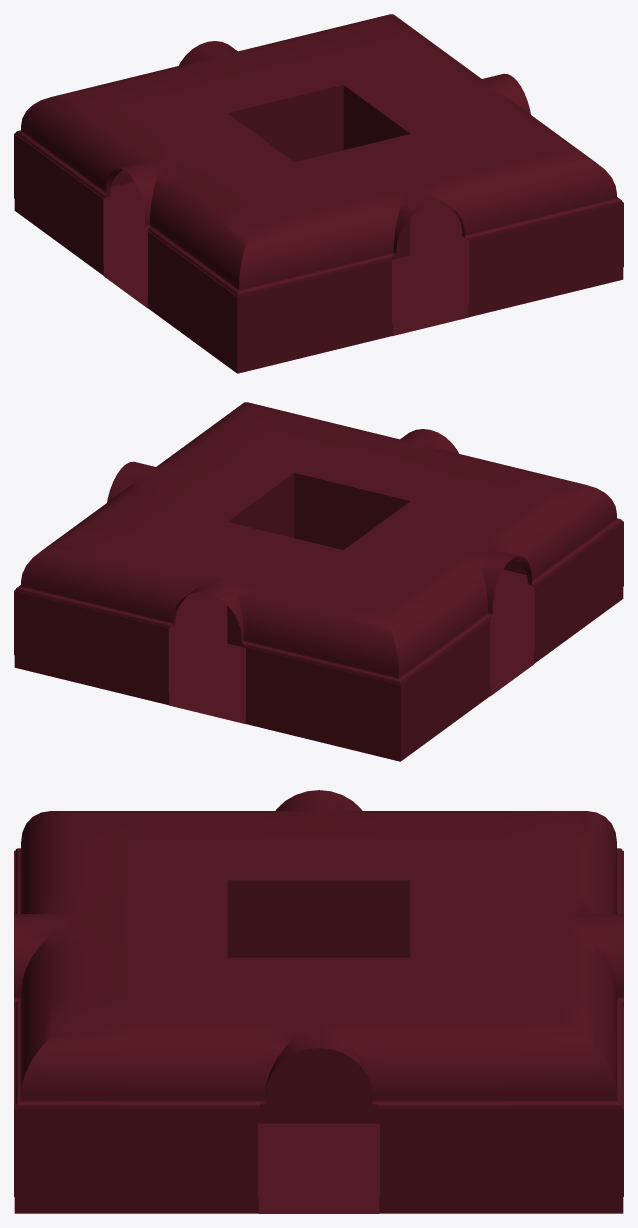
Rendered from Arena2.fbx.
3 renders of one model, top to bottom at view 1: azimuth 30°, elevation 25°; view 2: azimuth 150°, elevation 25°; view 3: azimuth 270°, elevation 25°, orthographic. The views are drawn at different scales.
Parts seen in each view (by area): view 1: Grande salle var1; view 2: Grande salle var1; view 3: Grande salle var1.
Boxes of the visible parts, x1,y1,x2,y2 form: Grande salle var1: (14,14,623,373); Grande salle var1: (14,402,623,761); Grande salle var1: (14,790,623,1213).
Bounding box in the file's own units: 4000 × 1202 × 4000.
